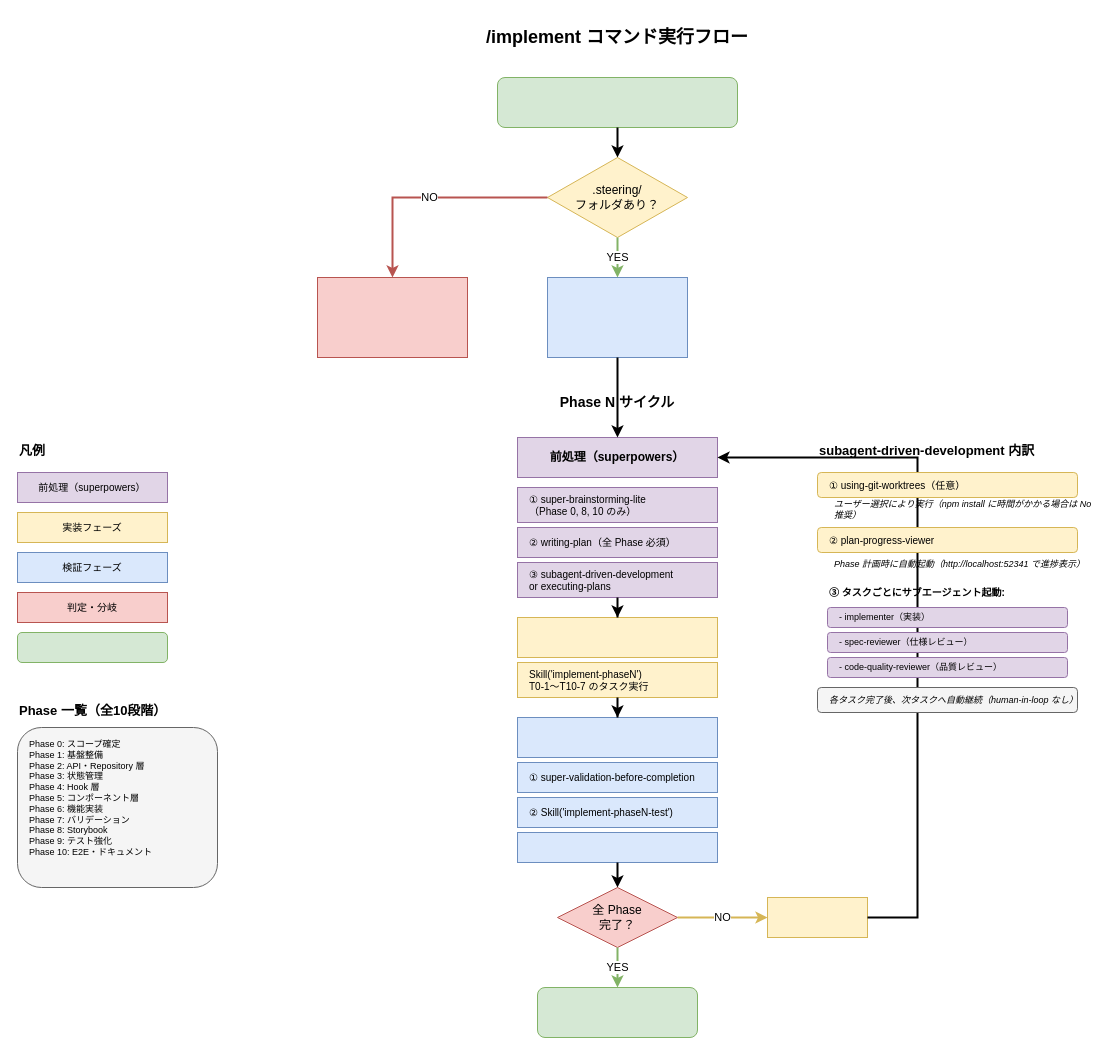
This 1115x1055 diagram has some shape labels left out. The box of each missing label's shape, as (x1, y1, x2, y2) in pixels:
/implement {domain}/Fxx_機能名: (496, 76, 738, 128)
③ finishing-a-development-branch: (516, 832, 718, 862)
実装: (516, 616, 718, 658)
実装完了: (536, 986, 698, 1038)
新規開始 steering 作成 tasklist.md 作成 → 応答終了: (316, 276, 468, 358)
検証: (516, 716, 718, 758)
次 Phase へ: (766, 896, 868, 938)
継続 tasklist.md 読み込み 未完了タスク特定: (546, 276, 688, 358)
開始・完了: (16, 632, 168, 662)
